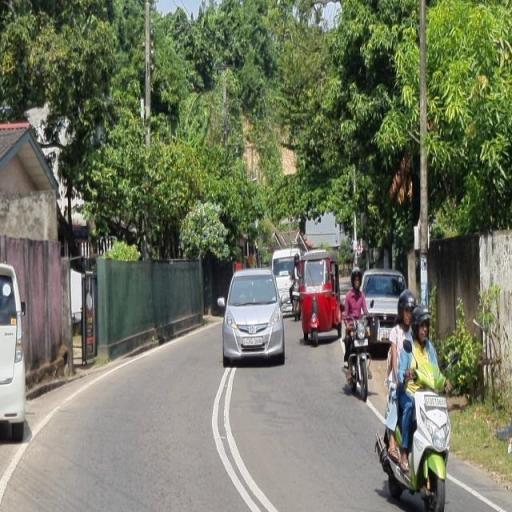double_white_line: (213, 365, 278, 512), (448, 473, 505, 512)
